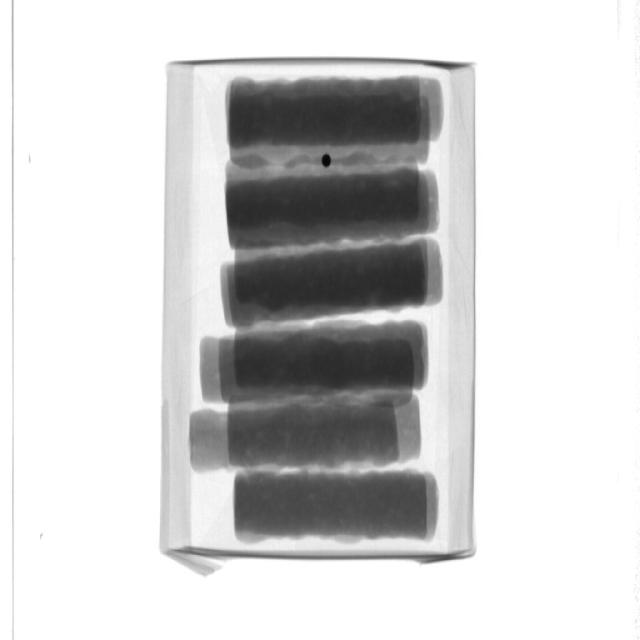ym: (322, 155, 332, 170)
